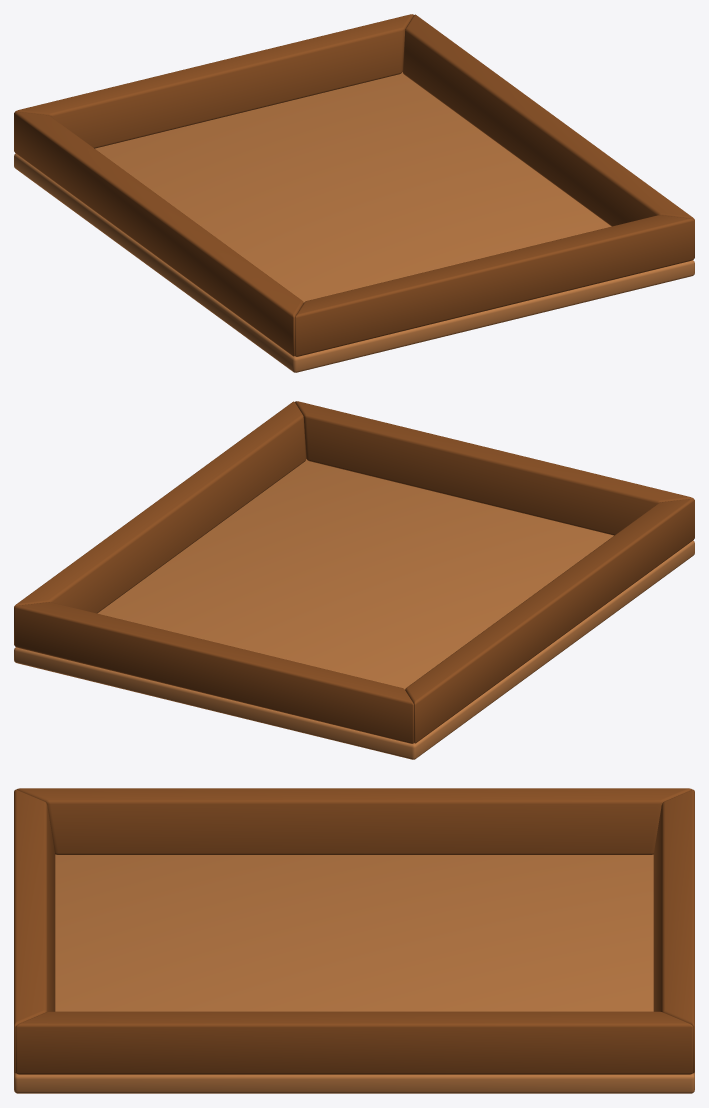
The model's file is Prop_WoodenTray.fbx.
The picture shows the model from 3 angles, top to bottom: view 1: azimuth 30°, elevation 25°; view 2: azimuth 150°, elevation 25°; view 3: azimuth 270°, elevation 25°; orthographic projection. The views are drawn at different scales.
Visible parts, largest first — view 1: Catalog_Prop_WoodenTray, Catalog_Prop_WoodenTray_RimS, Catalog_Prop_WoodenTray_RimN, Catalog_Prop_WoodenTray_RimW, Catalog_Prop_WoodenTray_RimE; view 2: Catalog_Prop_WoodenTray, Catalog_Prop_WoodenTray_RimN, Catalog_Prop_WoodenTray_RimS, Catalog_Prop_WoodenTray_RimW, Catalog_Prop_WoodenTray_RimE; view 3: Catalog_Prop_WoodenTray, Catalog_Prop_WoodenTray_RimE, Catalog_Prop_WoodenTray_RimW, Catalog_Prop_WoodenTray_RimN, Catalog_Prop_WoodenTray_RimS.
Part boxes in pixels (bbox=[...]): Catalog_Prop_WoodenTray: bbox=[14, 72, 694, 372]; Catalog_Prop_WoodenTray_RimS: bbox=[295, 215, 694, 356]; Catalog_Prop_WoodenTray_RimN: bbox=[15, 14, 413, 148]; Catalog_Prop_WoodenTray_RimW: bbox=[14, 112, 303, 356]; Catalog_Prop_WoodenTray_RimE: bbox=[402, 14, 694, 257]; Catalog_Prop_WoodenTray: bbox=[14, 459, 694, 759]; Catalog_Prop_WoodenTray_RimN: bbox=[14, 602, 413, 743]; Catalog_Prop_WoodenTray_RimS: bbox=[295, 401, 693, 535]; Catalog_Prop_WoodenTray_RimW: bbox=[405, 499, 694, 743]; Catalog_Prop_WoodenTray_RimE: bbox=[14, 401, 306, 644]; Catalog_Prop_WoodenTray: bbox=[14, 854, 694, 1093]; Catalog_Prop_WoodenTray_RimE: bbox=[15, 1011, 693, 1074]; Catalog_Prop_WoodenTray_RimW: bbox=[16, 788, 692, 854]; Catalog_Prop_WoodenTray_RimN: bbox=[653, 789, 694, 1073]; Catalog_Prop_WoodenTray_RimS: bbox=[14, 789, 55, 1073].
Size of the model in its own units: 3.76 by 0.52 by 4.56.
